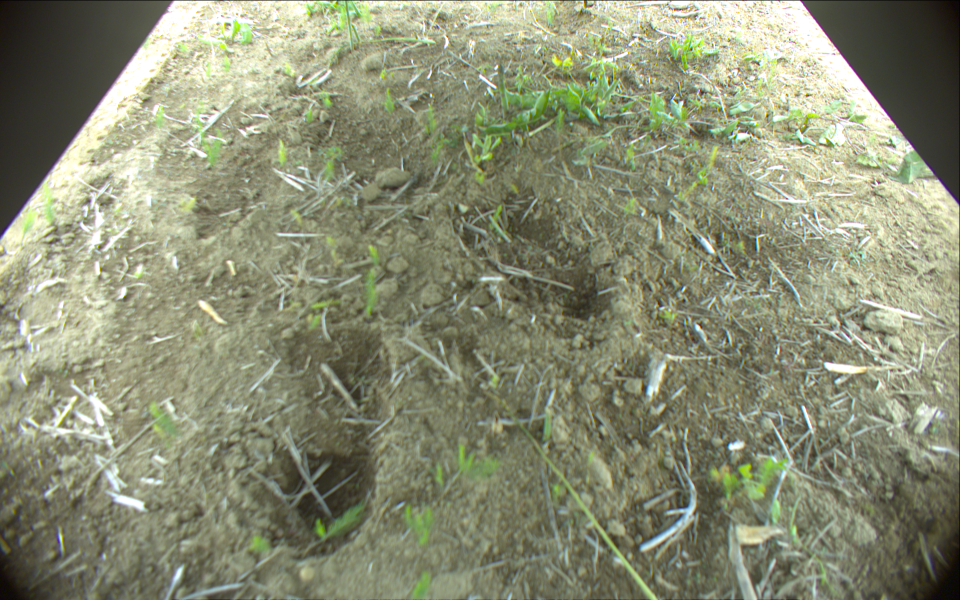aspa: (496, 398, 656, 600), (496, 63, 511, 118), (373, 35, 438, 45), (343, 1, 354, 51), (350, 1, 362, 19), (351, 22, 360, 42)
